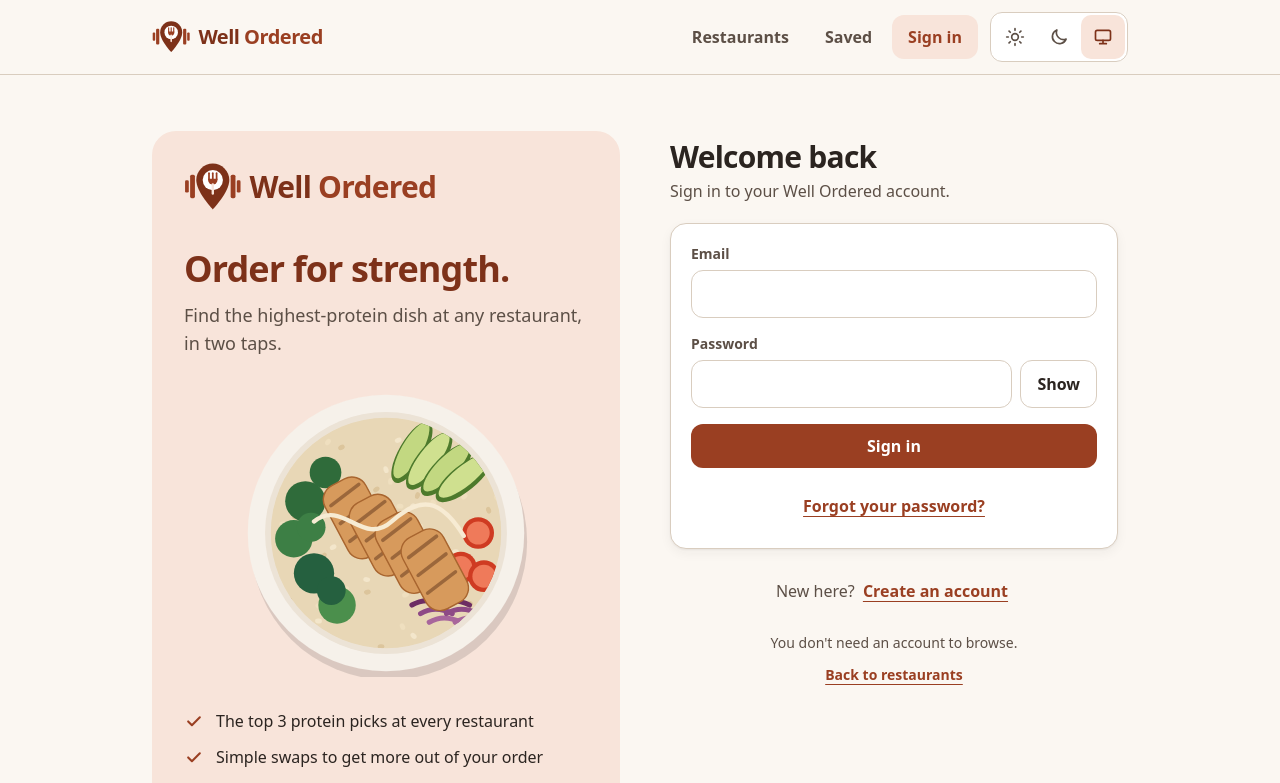
Test: login screen › shows a friendly error and stays on the page when sign-in fails
Step 1. Type "pat@example.com" into the field labelled "Email" → point(894, 294), box [691,270,1097,318]
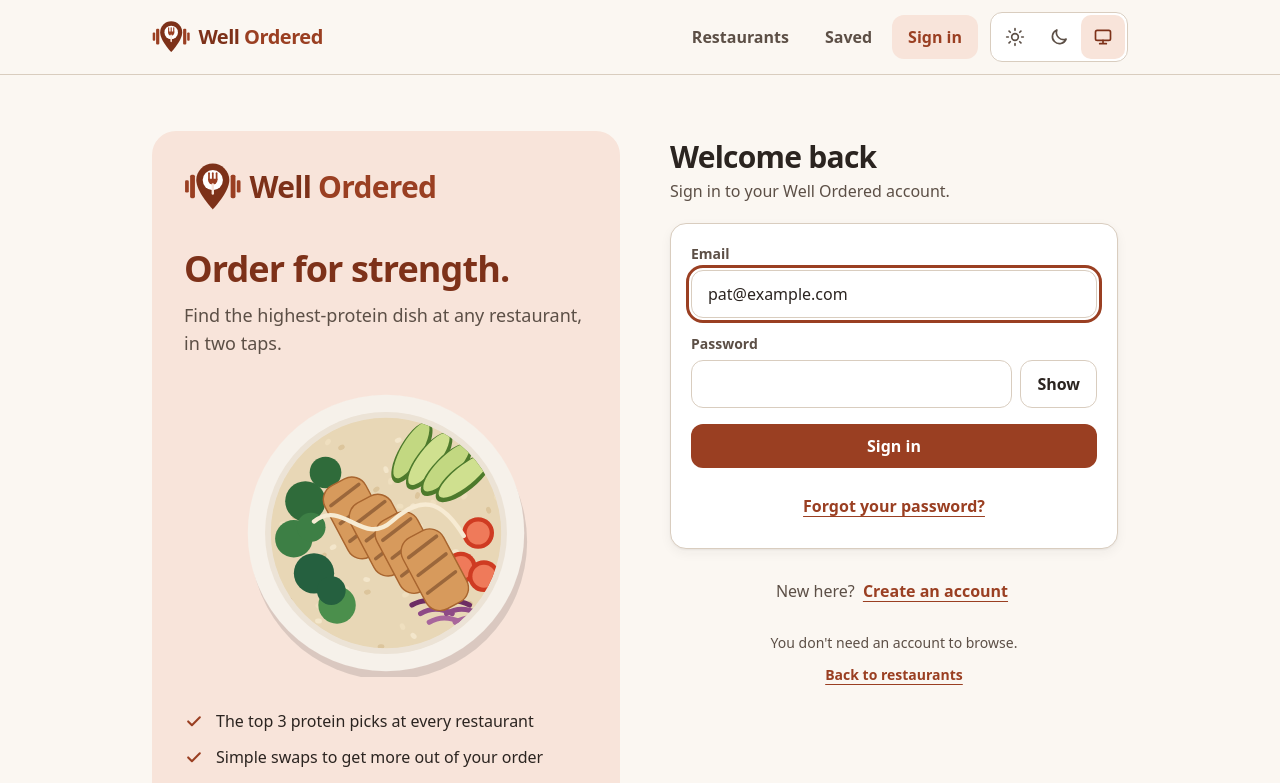
Step 2. Type "wrong-password" into the password field labelled "Password" → point(852, 384), box [691,360,1012,408]
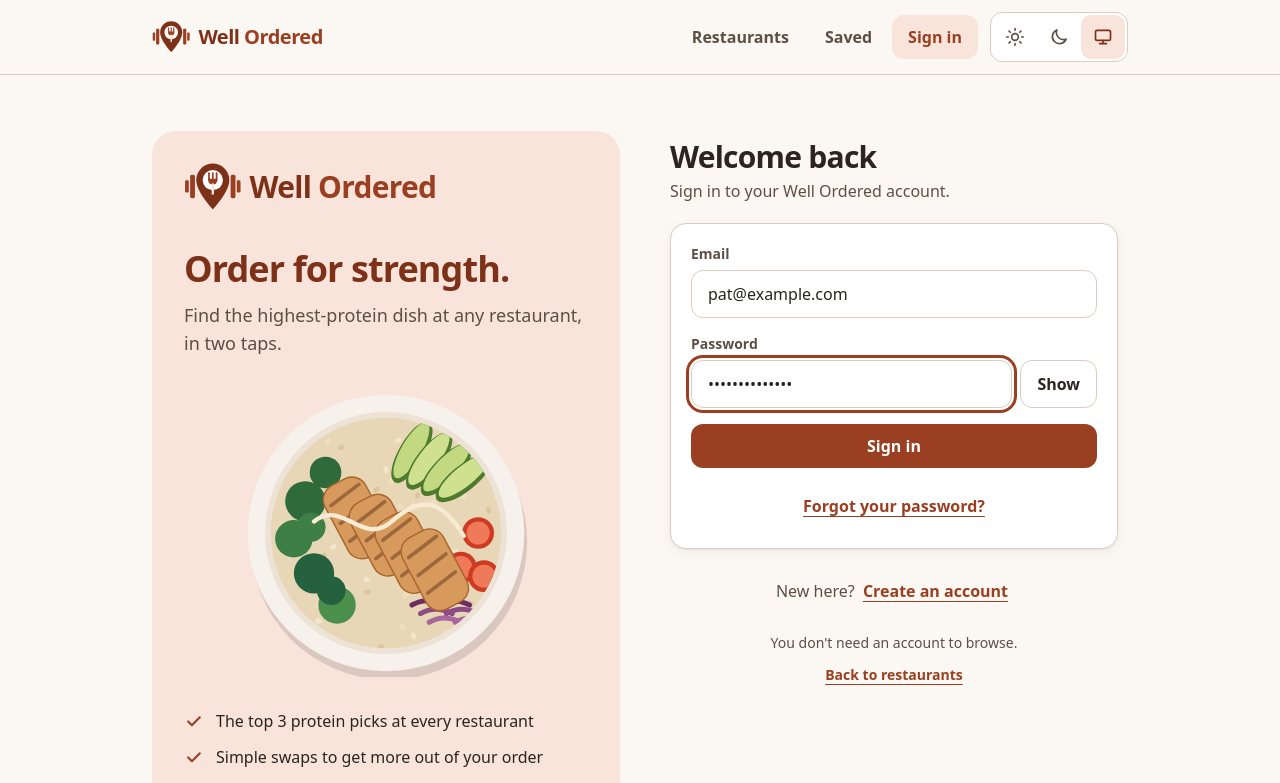
Step 3. Click the button "Sign in" → point(894, 446), box [691,424,1097,468]
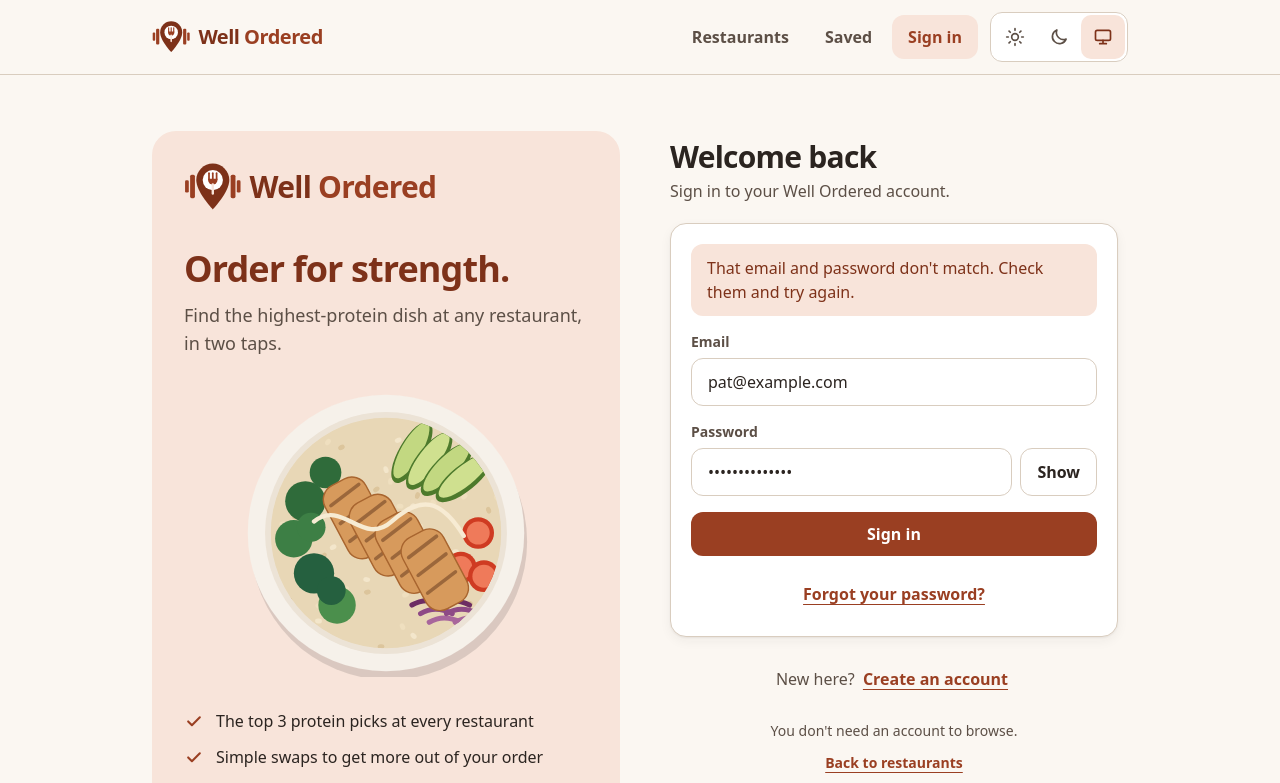
Expected: the heading "Welcome back" is shown, [670,136,876,177]
Expected: the message shows "That email and password don't match", [707,257,1043,303]
